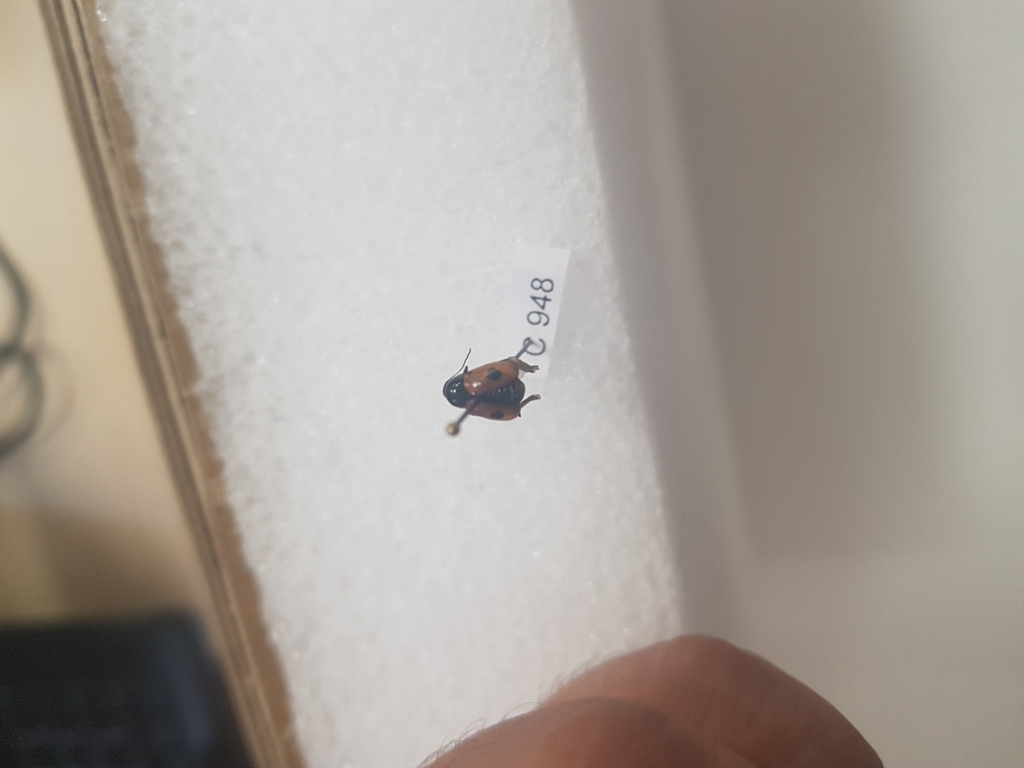Cryptocephalus_bipunctatus: (444, 347, 548, 424)
